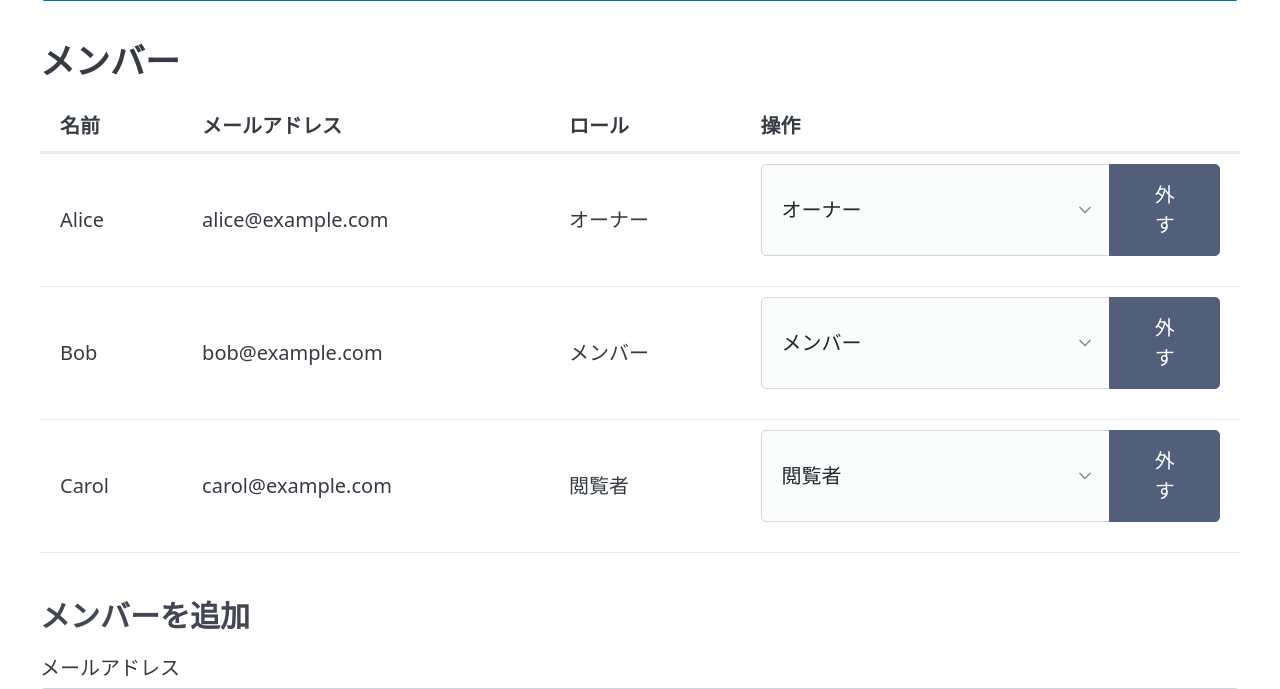
ロール変更 › 選んだロールに変更し、一覧を取り直す
(page scrolled)
Select "閲覧者" in the dropdown named "Bob のロール" at (936, 343), box [761,297,1110,389]
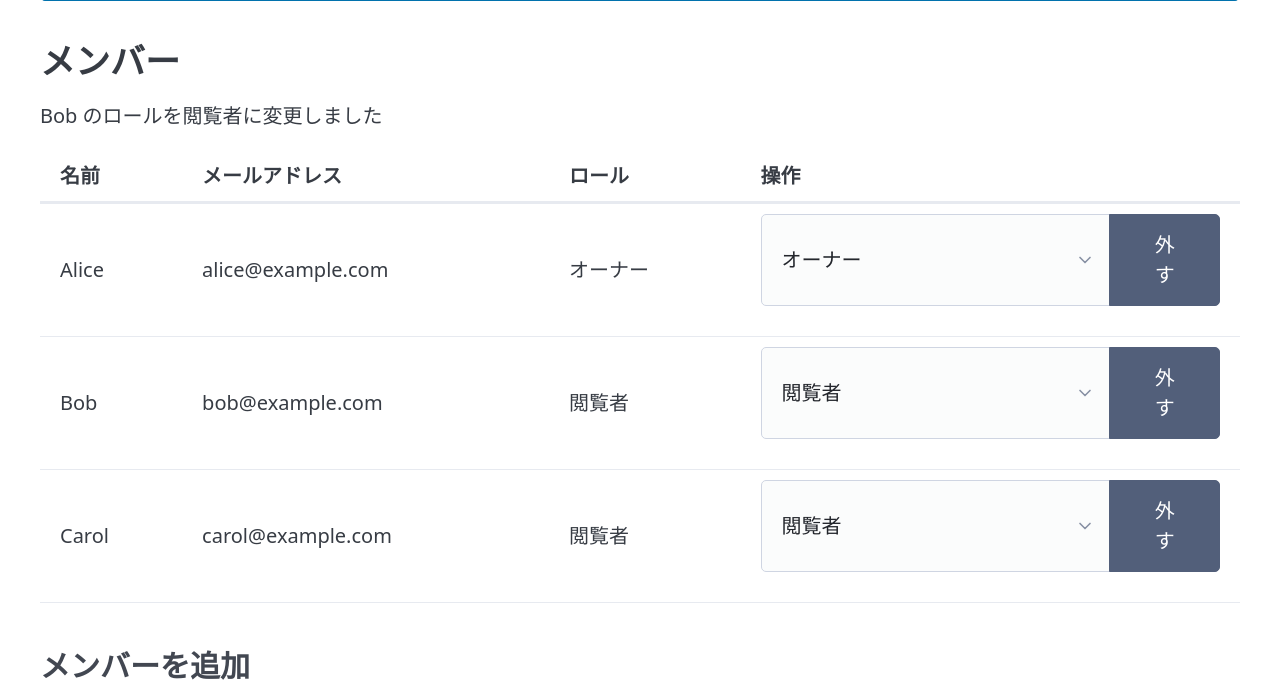
Now the message reads "Bob のロールを閲覧者に変更しました", box [40,102,383,129]
